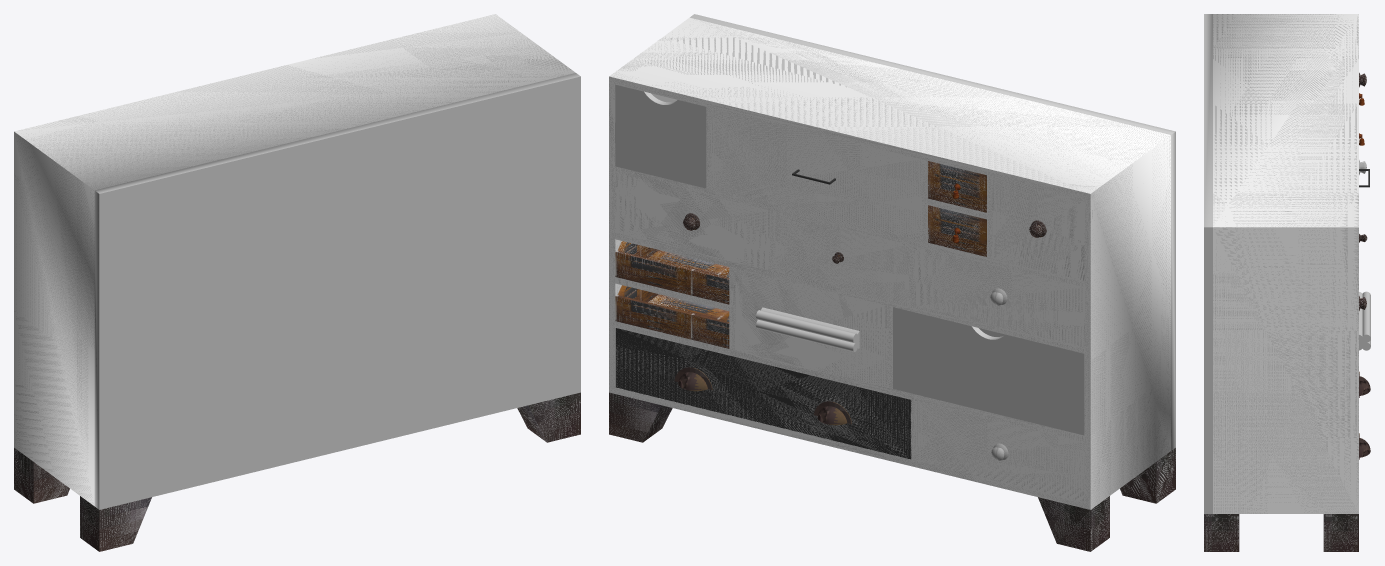
The picture shows the model from 3 angles, left to right: view 1: azimuth 30°, elevation 25°; view 2: azimuth 150°, elevation 25°; view 3: azimuth 270°, elevation 25°; orthographic projection. The views are drawn at different scales.
Parts seen in each view (by area): view 1: mesh40_mesh40-geometry, mesh34_mesh34-geometry; view 2: mesh40_mesh40-geometry, mesh8_mesh8-geometry, mesh28_mesh28-geometry, mesh45_mesh45-geometry, mesh13_mesh13-geometry, mesh38_mesh38-geometry, mesh7_mesh7-geometry, mesh32_mesh32-geometry, mesh42_mesh42-geometry, mesh33_mesh33-geometry, mesh31_mesh31-geometry, mesh34_mesh34-geometry (+5 smaller); view 3: mesh40_mesh40-geometry, mesh34_mesh34-geometry, mesh11_mesh11-geometry, mesh14_mesh14-geometry, mesh29_mesh29-geometry.
Part boxes in pixels (bbox=[...]): mesh40_mesh40-geometry: bbox=[14, 14, 580, 509]; mesh34_mesh34-geometry: bbox=[14, 392, 580, 551]; mesh40_mesh40-geometry: bbox=[609, 14, 1175, 509]; mesh8_mesh8-geometry: bbox=[712, 108, 921, 240]; mesh28_mesh28-geometry: bbox=[615, 328, 911, 459]; mesh45_mesh45-geometry: bbox=[893, 307, 1084, 435]; mesh13_mesh13-geometry: bbox=[735, 269, 886, 387]; mesh38_mesh38-geometry: bbox=[915, 246, 1084, 346]; mesh7_mesh7-geometry: bbox=[917, 401, 1084, 501]; mesh32_mesh32-geometry: bbox=[615, 173, 769, 270]; mesh42_mesh42-geometry: bbox=[776, 212, 908, 304]; mesh33_mesh33-geometry: bbox=[615, 84, 706, 188]; mesh31_mesh31-geometry: bbox=[993, 177, 1084, 280]; mesh34_mesh34-geometry: bbox=[609, 392, 1175, 551]; mesh40_mesh40-geometry: bbox=[1204, 14, 1358, 513]; mesh34_mesh34-geometry: bbox=[1204, 514, 1358, 551]; mesh11_mesh11-geometry: bbox=[1359, 291, 1370, 350]; mesh14_mesh14-geometry: bbox=[1359, 371, 1370, 459]; mesh29_mesh29-geometry: bbox=[1359, 72, 1367, 310].
Size of the model in its own units: 0.7871 by 0.5592 by 0.2603.
